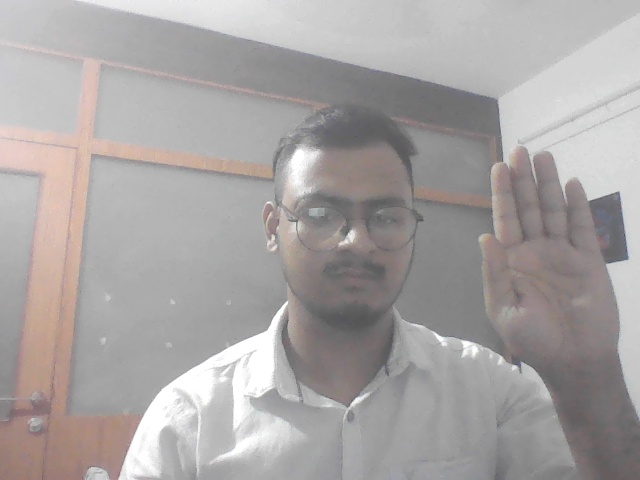Hello: (473, 143, 631, 372)
